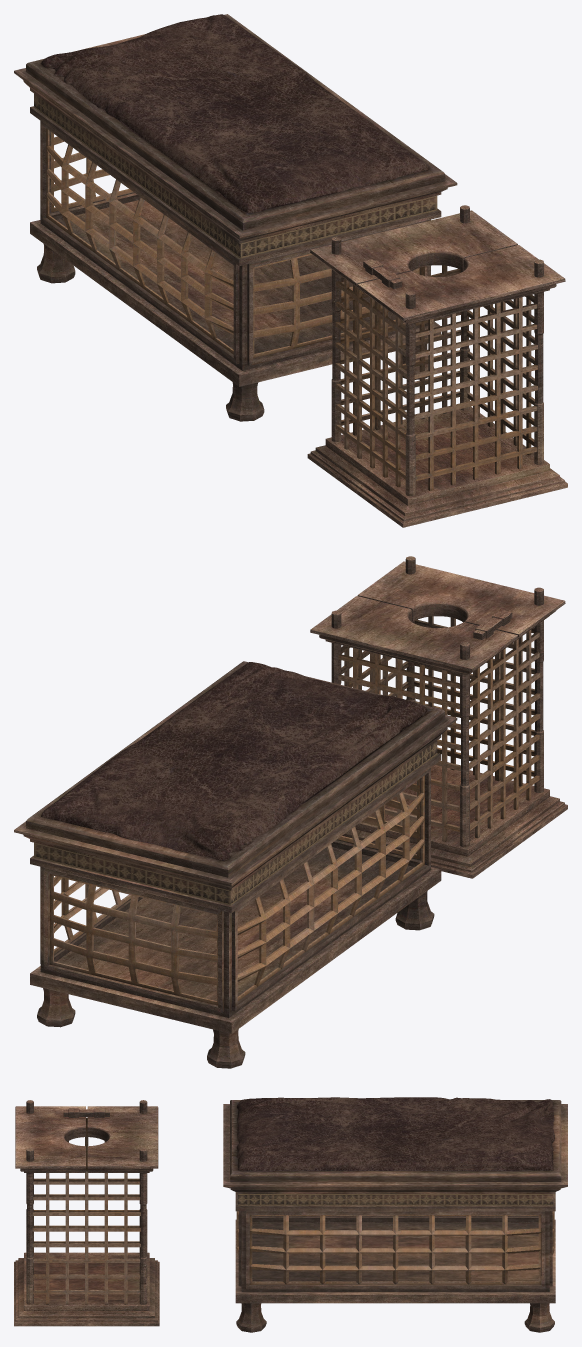
File: cages.glb
3 views of the same model, one above another, from view 1: azimuth 30°, elevation 25°; view 2: azimuth 150°, elevation 25°; view 3: azimuth 270°, elevation 25° (orthographic). The views are drawn at different scales.
Visible parts, largest first — view 1: Object_9, Object_13, Object_11, Object_4, Object_7, Object_6; view 2: Object_9, Object_7, Object_13, Object_6, Object_4, Object_11; view 3: Object_9, Object_13, Object_7, Object_6, Object_4, Object_11.
Part boxes in pixels (x1,y1,x2,y2): Object_9: (41, 14, 429, 212); Object_13: (307, 205, 567, 527); Object_11: (335, 265, 537, 490); Object_4: (14, 14, 457, 262); Object_7: (30, 110, 441, 370); Object_6: (30, 200, 441, 421); Object_9: (41, 662, 427, 860); Object_7: (30, 757, 441, 1017); Object_13: (310, 556, 567, 878); Object_6: (30, 847, 441, 1068); Object_4: (14, 661, 457, 909); Object_11: (338, 616, 540, 841); Object_9: (236, 1097, 554, 1170); Object_13: (14, 1100, 159, 1326); Object_7: (235, 1208, 555, 1291); Object_6: (235, 1219, 555, 1332); Object_4: (223, 1100, 567, 1208); Object_11: (32, 1117, 140, 1304).
Size of the model in its own units: 1.2 by 1.17 by 3.46.
Materials: 6 (6 with a texture image).
